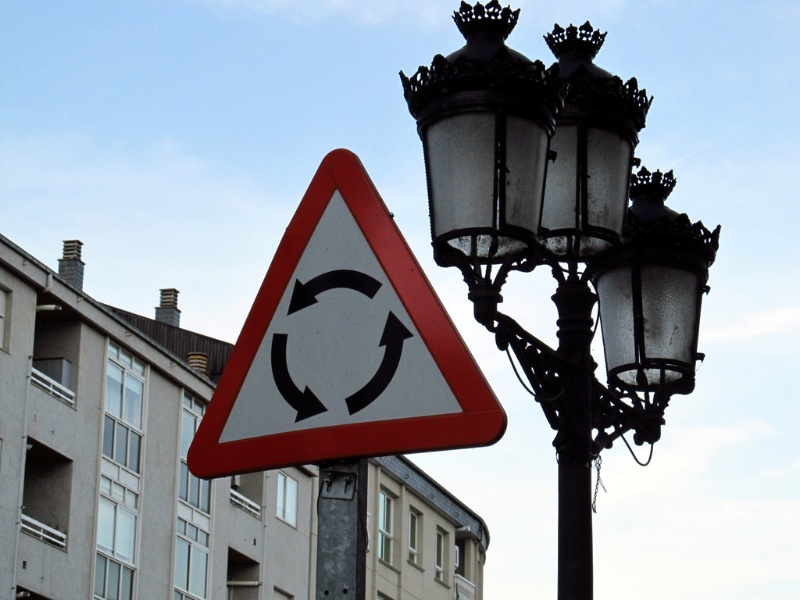roundabout_ahead: (183, 141, 522, 482)
